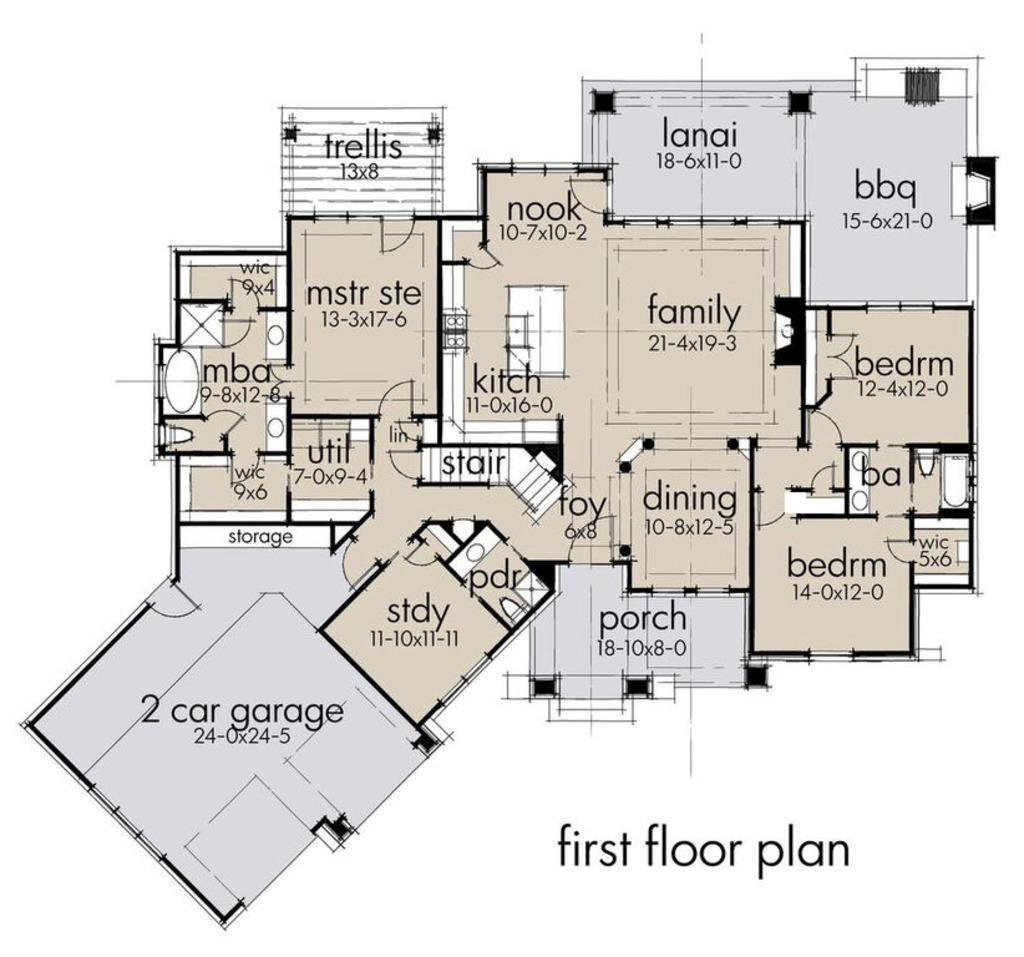door: (140, 571, 200, 636), (328, 534, 390, 590), (358, 375, 421, 420), (811, 402, 861, 456), (372, 206, 419, 261), (571, 174, 622, 221), (822, 328, 865, 381), (456, 240, 514, 278), (381, 436, 424, 487), (750, 486, 793, 531), (217, 311, 258, 355), (205, 398, 247, 440), (225, 267, 267, 308), (400, 534, 440, 571)
kitchen_bar: (499, 275, 578, 376)
large_sink: (883, 525, 924, 567), (494, 592, 533, 631)
small_sink: (847, 440, 875, 523), (453, 533, 494, 567)
stairs: (433, 442, 587, 527)
tub: (939, 455, 978, 512)
window: (77, 782, 168, 867), (862, 294, 945, 319), (514, 157, 589, 179)
